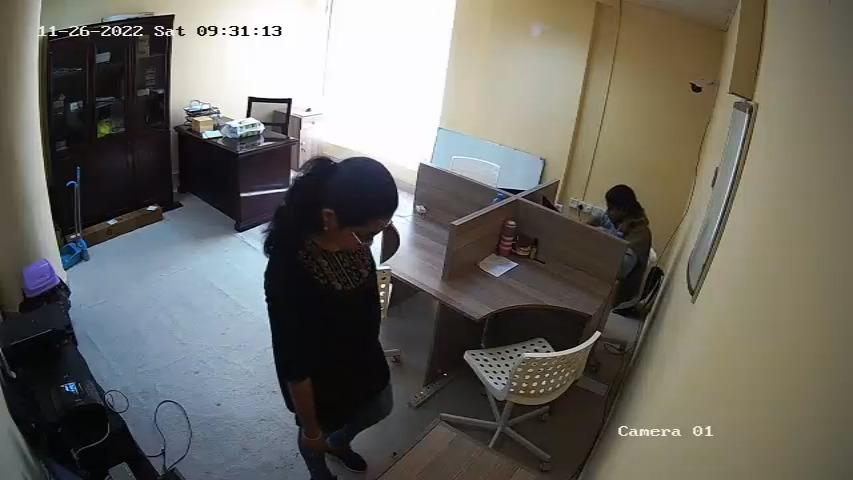no_apron: (306, 254, 380, 416)
